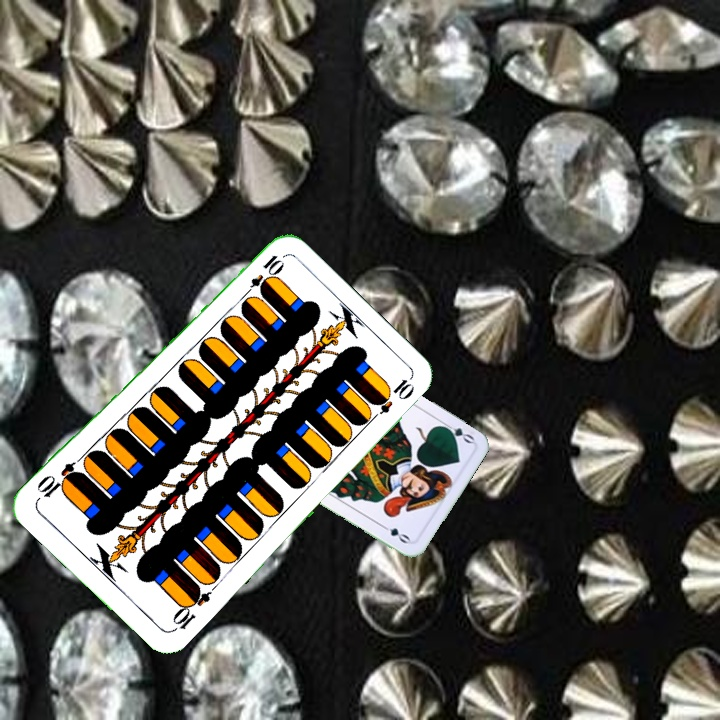E10: (168, 582, 213, 635), (239, 250, 285, 301)
GO: (437, 418, 476, 446)
